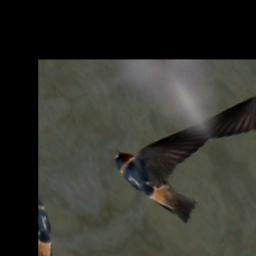Swallow: (105, 115, 244, 240)
